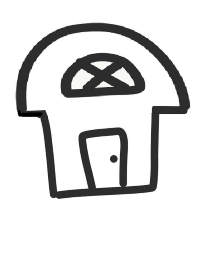closed_window: (50, 52, 149, 102)
door: (74, 127, 138, 187)
single_line_roof: (14, 21, 192, 120)
wall: (35, 109, 163, 203)
